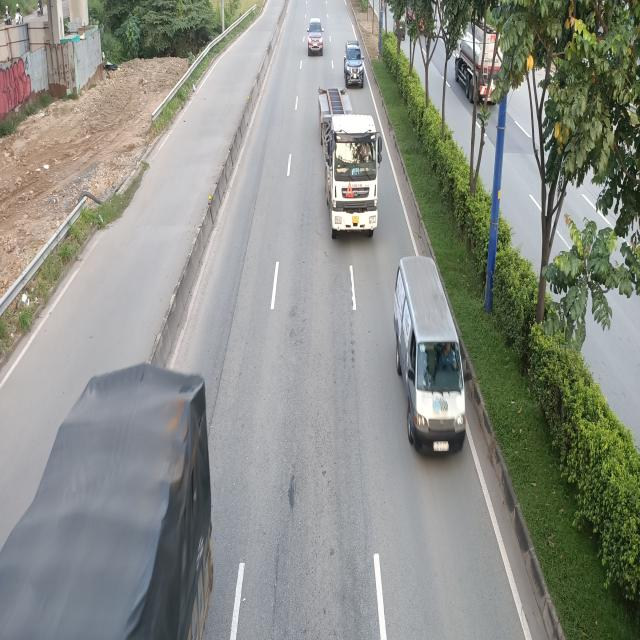car: (344, 42, 365, 88), (307, 18, 324, 54)
container: (319, 87, 383, 239)
van: (394, 257, 469, 456)
